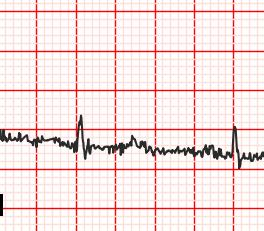Poor R Progression: (229, 124, 241, 161)
